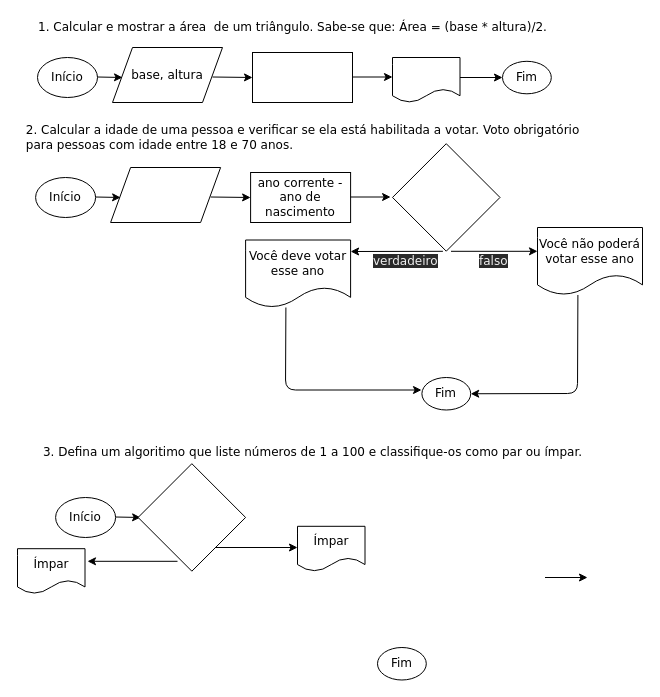
Image size: 660x697. Some labels were removed from this diagram. The shapes that lost their labels are listed below. From the top down, each one's box as (x1, y1, x2, y2) in pixels, then its label:
(252, 52, 352, 102): Área <- (base * altura)/2
(392, 56, 460, 102): Área
(110, 166, 221, 222): ano de nascimento
(392, 143, 500, 251): Idade >= 18 ou idade <= 70
(137, 463, 246, 571): i % 2 == 0
